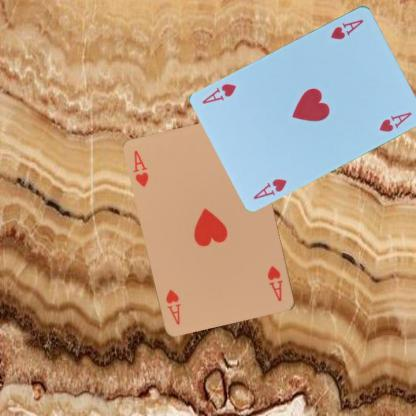Ah: (328, 16, 365, 41), (250, 176, 288, 200), (265, 263, 285, 303), (131, 148, 150, 188)
